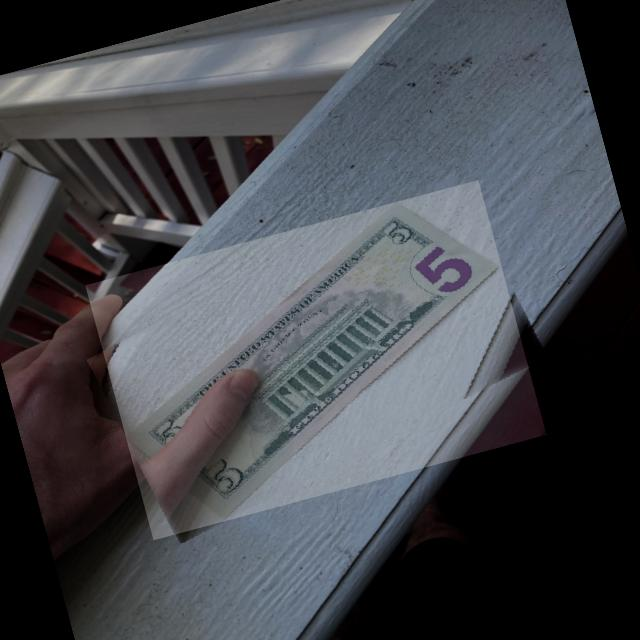five: (127, 172, 501, 532)
